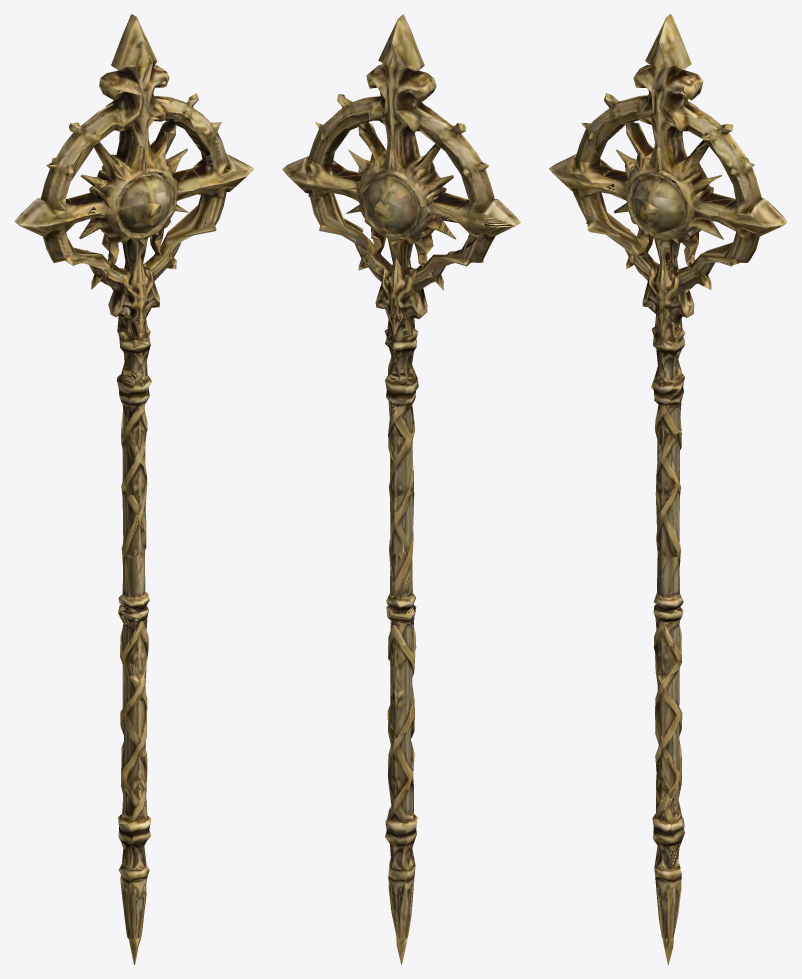
The model's file is staff-white.glb.
The picture shows the model from 3 angles, left to right: view 1: azimuth 30°, elevation 25°; view 2: azimuth 150°, elevation 25°; view 3: azimuth 330°, elevation 25°; orthographic projection.
Visible parts, largest first — view 1: BishopStaff; view 2: BishopStaff; view 3: BishopStaff.
Part boxes in pixels (bbox=[...]): BishopStaff: bbox=[14, 14, 253, 964]; BishopStaff: bbox=[282, 14, 520, 964]; BishopStaff: bbox=[549, 14, 787, 964].
Size of the model in its own units: 0.6313 by 2.45 by 0.1925.
1 material, 1 textured.
